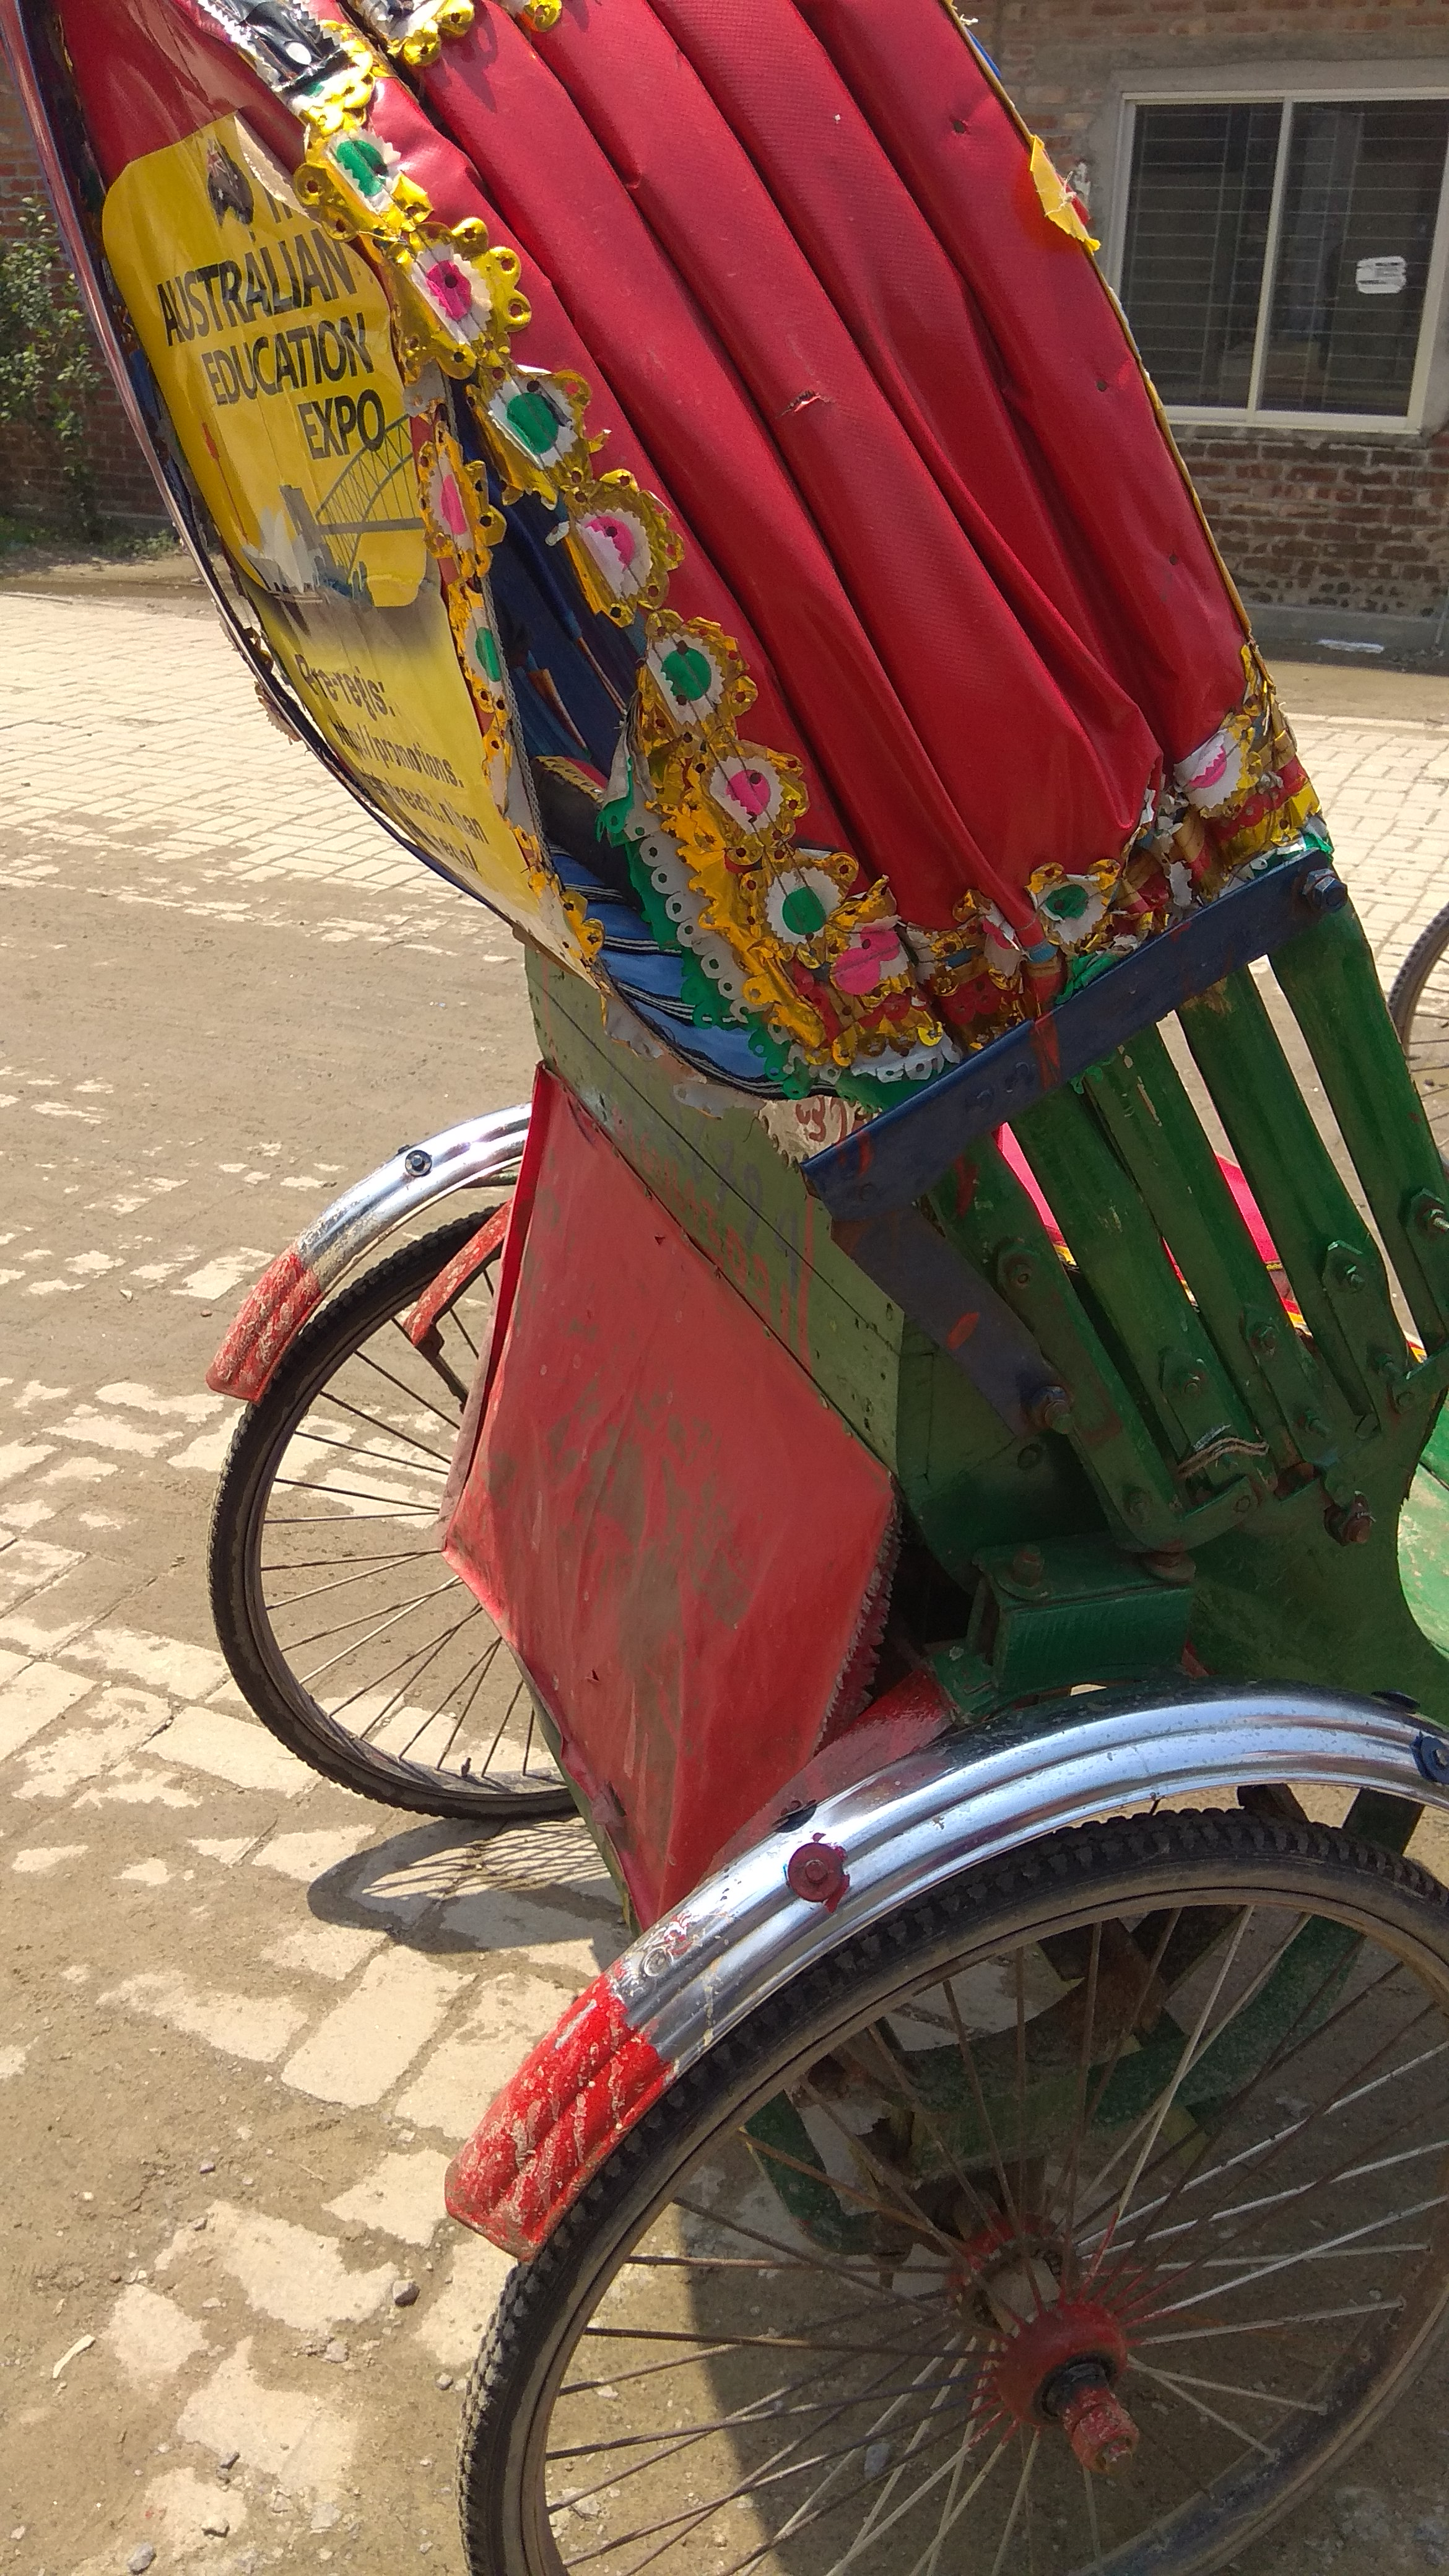Rickshaw: (4, 7, 1437, 2387)
